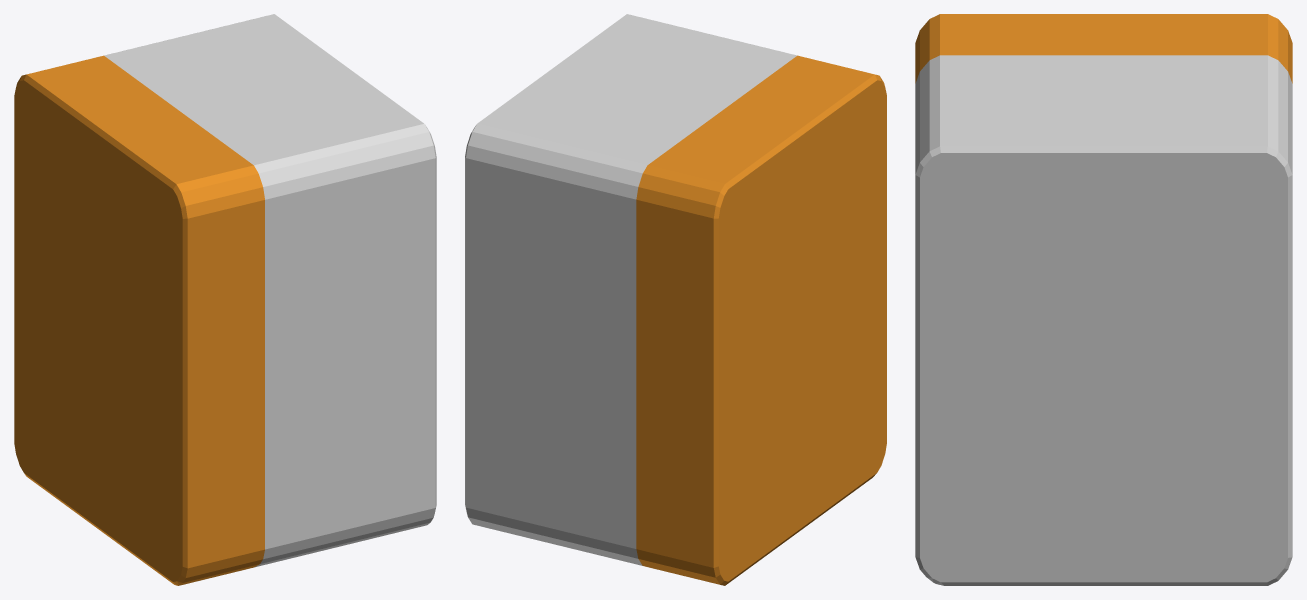
Rendered from Card.fbx.
The picture shows the model from 3 angles, left to right: view 1: azimuth 30°, elevation 25°; view 2: azimuth 150°, elevation 25°; view 3: azimuth 270°, elevation 25°; orthographic projection. The views are drawn at different scales.
Parts seen in each view (by area): view 1: Cube; view 2: Cube; view 3: Cube.
Part boxes in pixels (box(x1,y1,x2,y2)): Cube: box(14, 14, 436, 585); Cube: box(465, 14, 886, 585); Cube: box(915, 14, 1292, 585).
Bounding box in the file's own units: 170 × 257 × 200.
